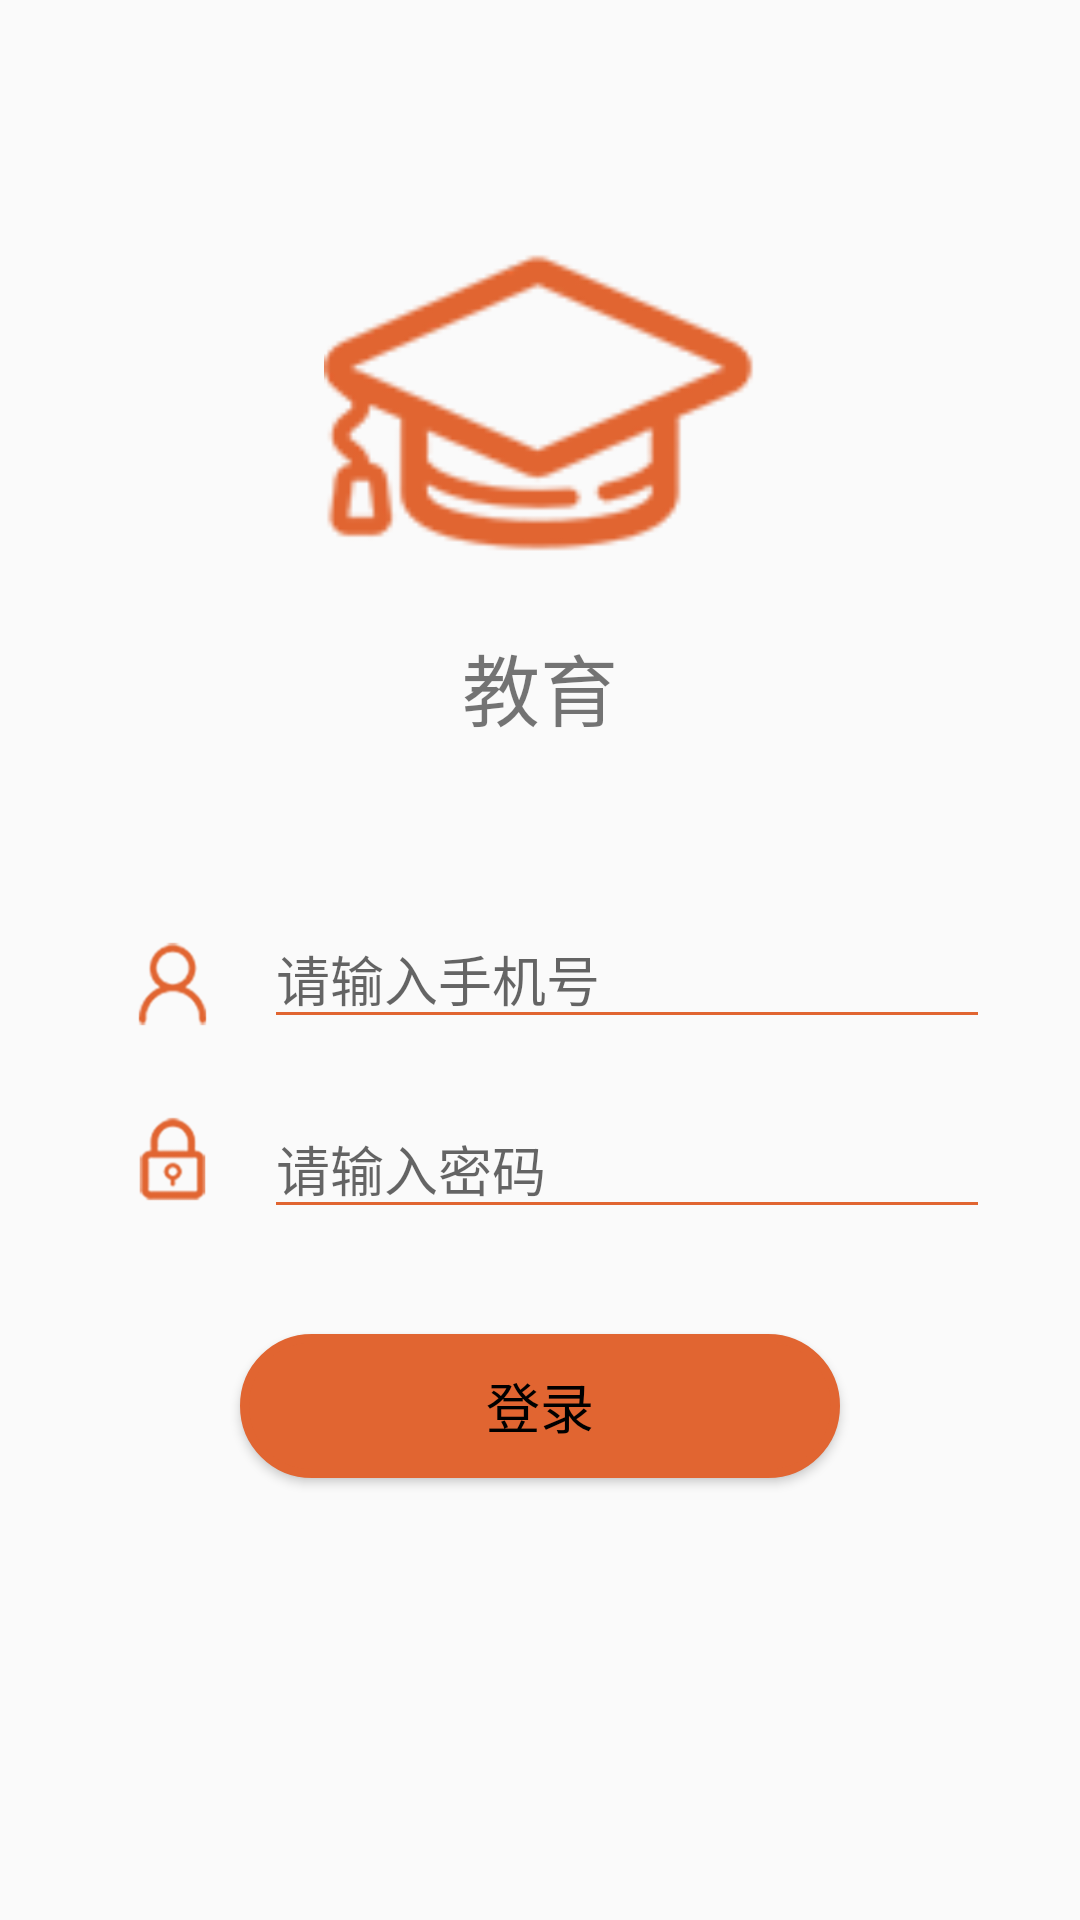

Icons on this 1080*1920 Android screen, each with the point to tap as (x=x, y=y):
loginnm: (x=172, y=984)
loginpw: (x=172, y=1159)
